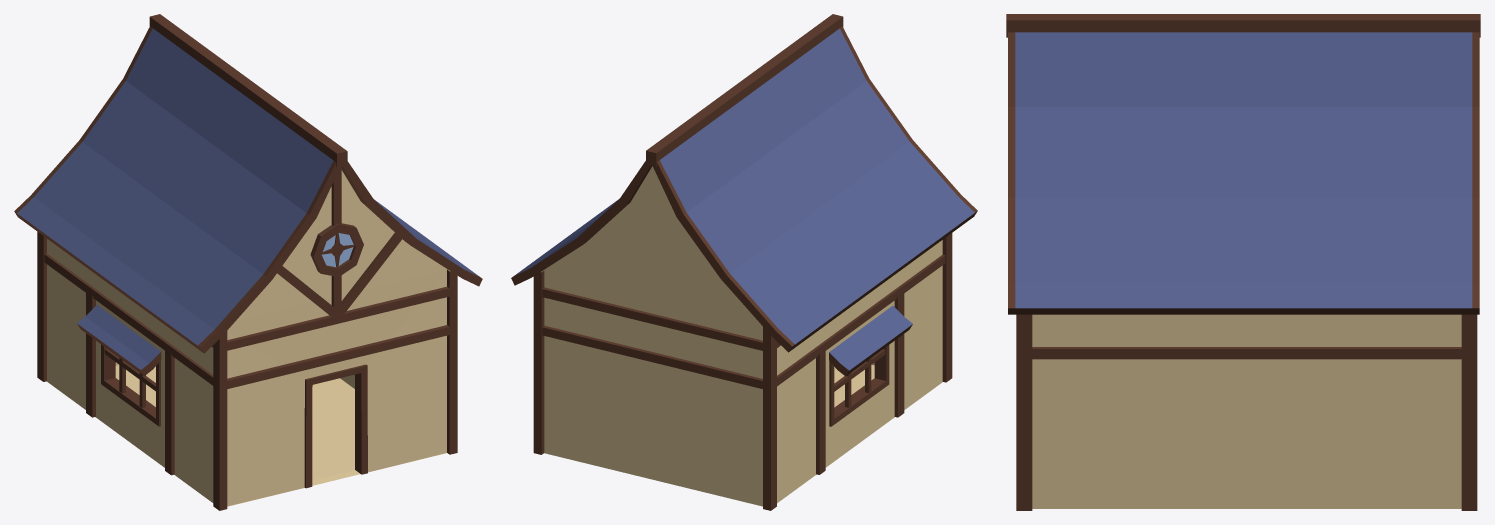
Rendered from house.fbx.
The picture shows the model from 3 angles, left to right: view 1: azimuth 30°, elevation 25°; view 2: azimuth 150°, elevation 25°; view 3: azimuth 270°, elevation 25°; orthographic projection. The views are drawn at different scales.
Parts seen in each view (by area): view 1: house; view 2: house; view 3: house.
Part boxes in pixels (left/top/right/bottom): house: left=14, top=14, right=482, bottom=510; house: left=511, top=14, right=977, bottom=510; house: left=1006, top=14, right=1480, bottom=510.
Size of the model in its own units: 646 by 728 by 744.
